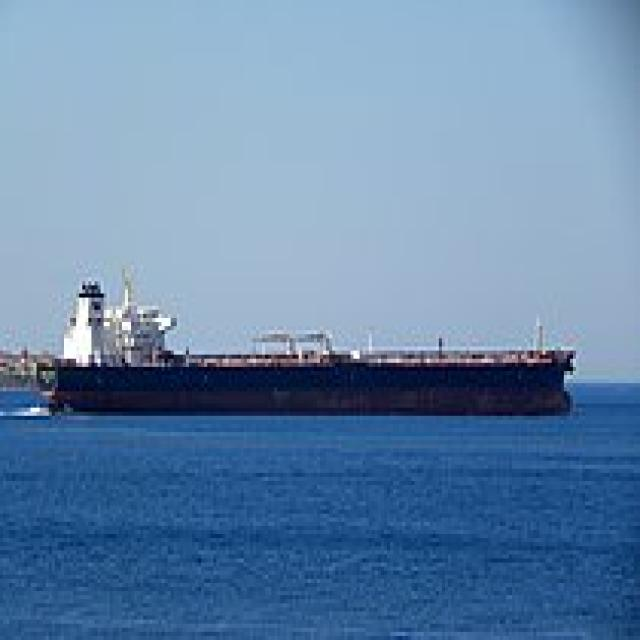Tanker: (27, 261, 579, 412)
